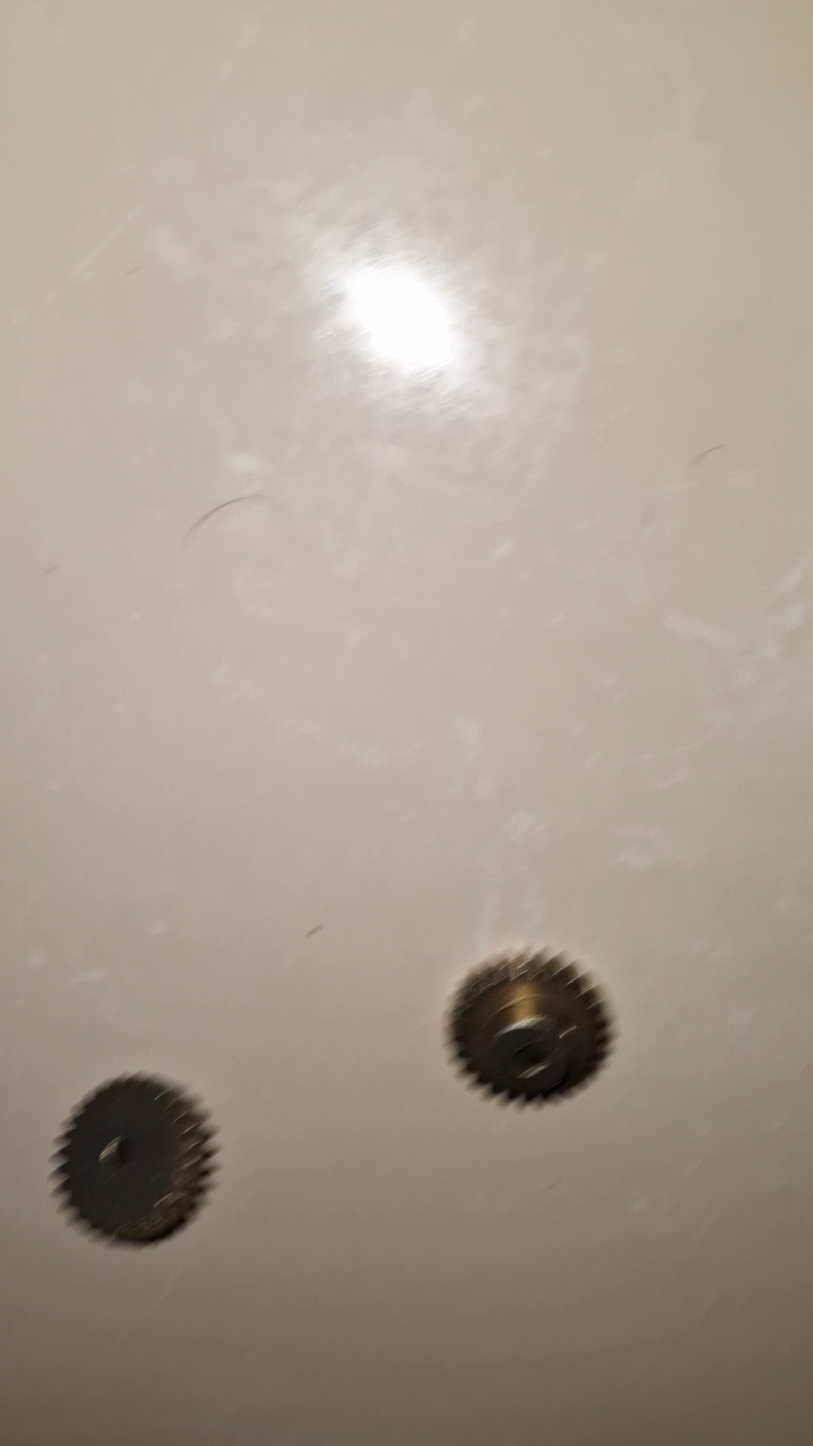spur gear: (53, 1075, 212, 1245), (450, 953, 610, 1101)
